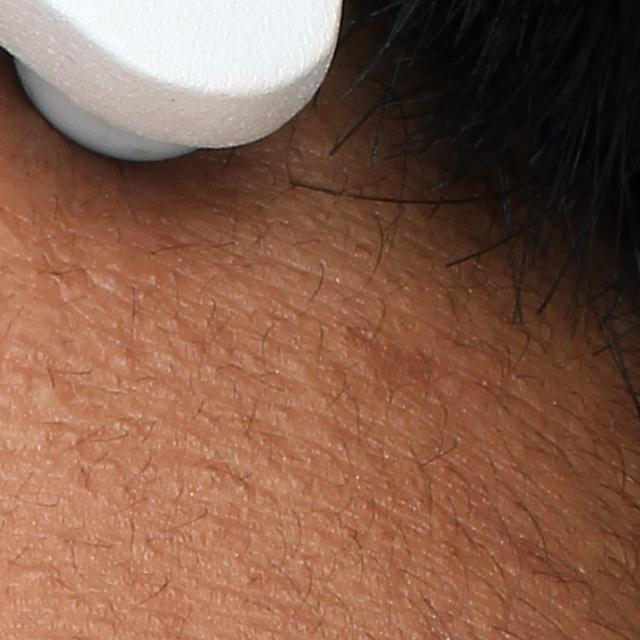comedo: (31, 373, 72, 414), (107, 345, 135, 379)
